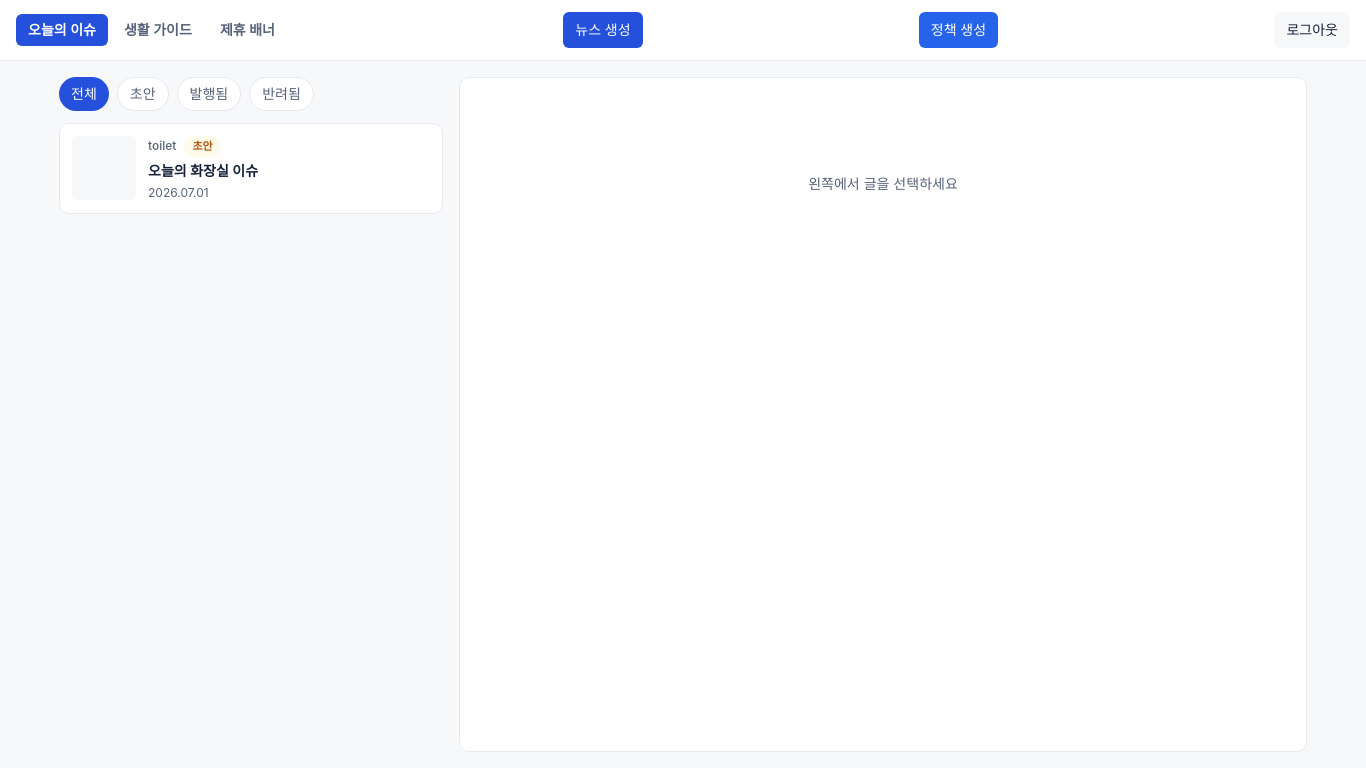
Test: admin dashboard (pages/admin/index.vue) › 생활 가이드 탭 › 가이드 list() 실패 시 원본 에러 대신 일반 에러 메시지를 보여준다
Click the button with test id "tab-guide".
click(158, 30)  # box [112,14,204,46]
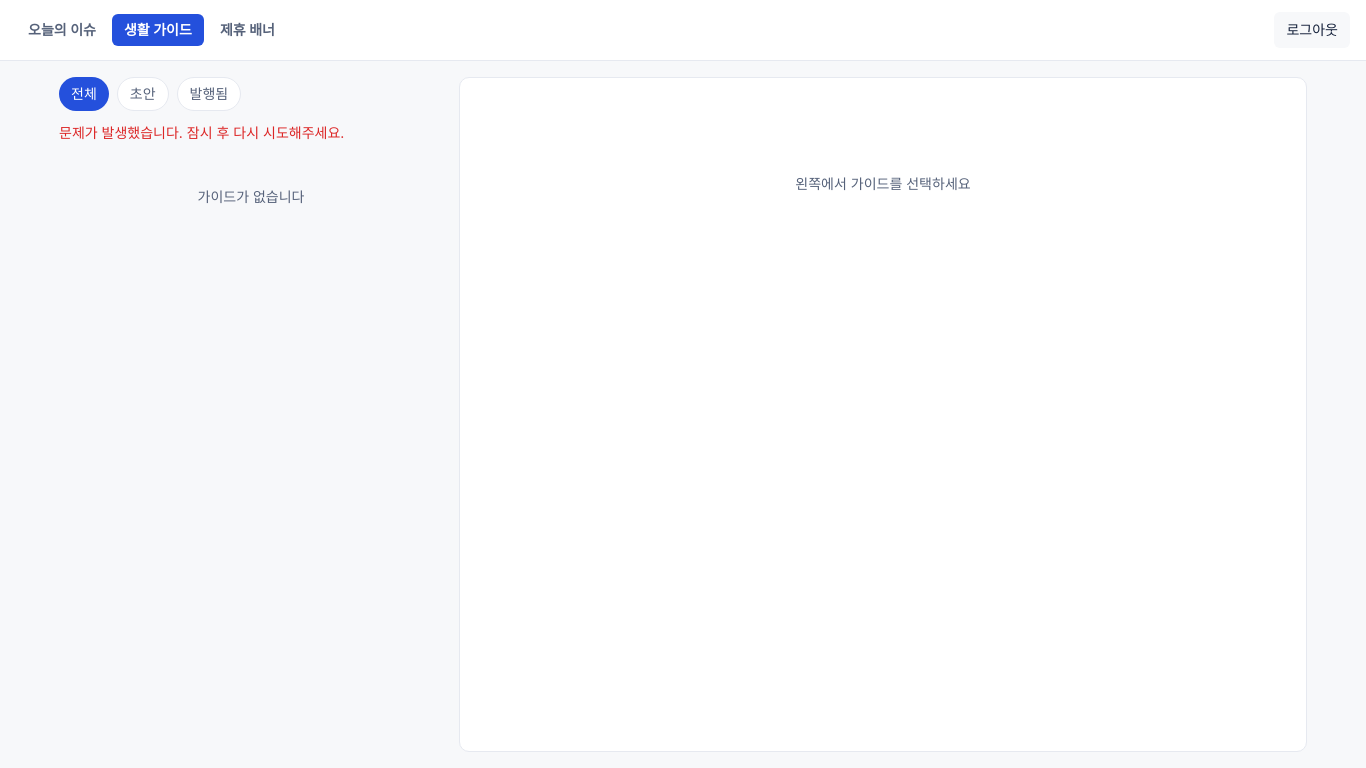
Result: the message "문제가 발생했습니다. 잠시 후 다시 시도해주세요." is shown at [59,124,344,141]
